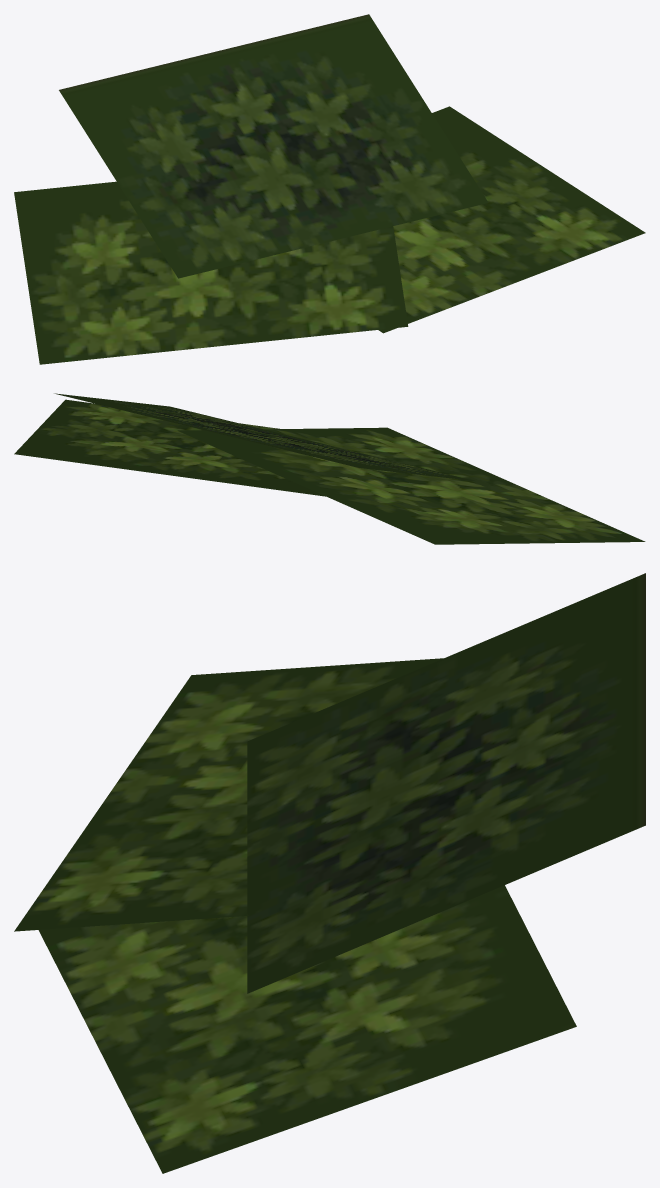
File: dec_Border_Bush_04_35677.glb
The picture shows the model from 3 angles, top to bottom: view 1: azimuth 30°, elevation 25°; view 2: azimuth 150°, elevation 25°; view 3: azimuth 270°, elevation 25°; orthographic projection. The views are drawn at different scales.
Parts seen in each view (by area): view 1: Border_Bush_04_mesh; view 2: Border_Bush_04_mesh; view 3: Border_Bush_04_mesh.
Part boxes in pixels (x1,y1,x2,y2): Border_Bush_04_mesh: (14, 14, 645, 364); Border_Bush_04_mesh: (14, 393, 645, 544); Border_Bush_04_mesh: (14, 573, 645, 1173).
Size of the model in its own units: 1.57 by 0.3631 by 0.862.
Materials: 1 (1 with a texture image).
